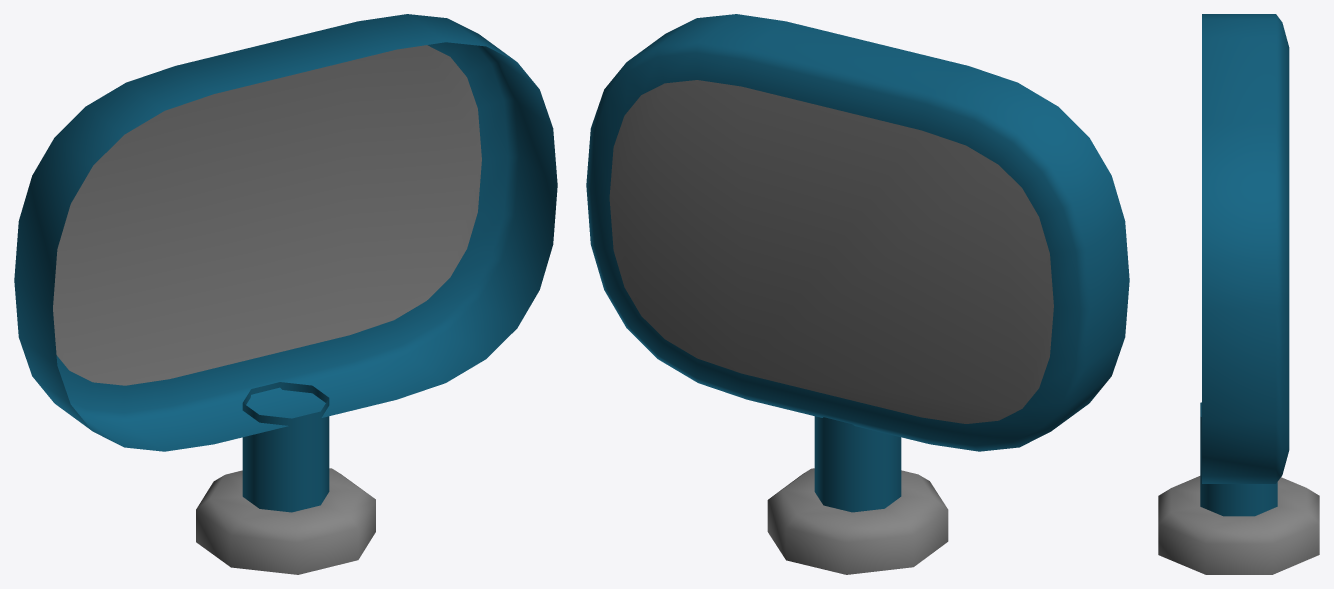
Rendered from Counter.fbx.
The picture shows the model from 3 angles, left to right: view 1: azimuth 30°, elevation 25°; view 2: azimuth 150°, elevation 25°; view 3: azimuth 270°, elevation 25°; orthographic projection. The views are drawn at different scales.
Parts seen in each view (by area): view 1: Counter; view 2: Counter; view 3: Counter.
Boxes of the visible parts, <box> form: Counter: <box>14,14,557,574</box>; Counter: <box>586,14,1129,574</box>; Counter: <box>1158,14,1319,574</box>.
Size of the model in its own units: 50.19 by 45.52 by 14.5.
